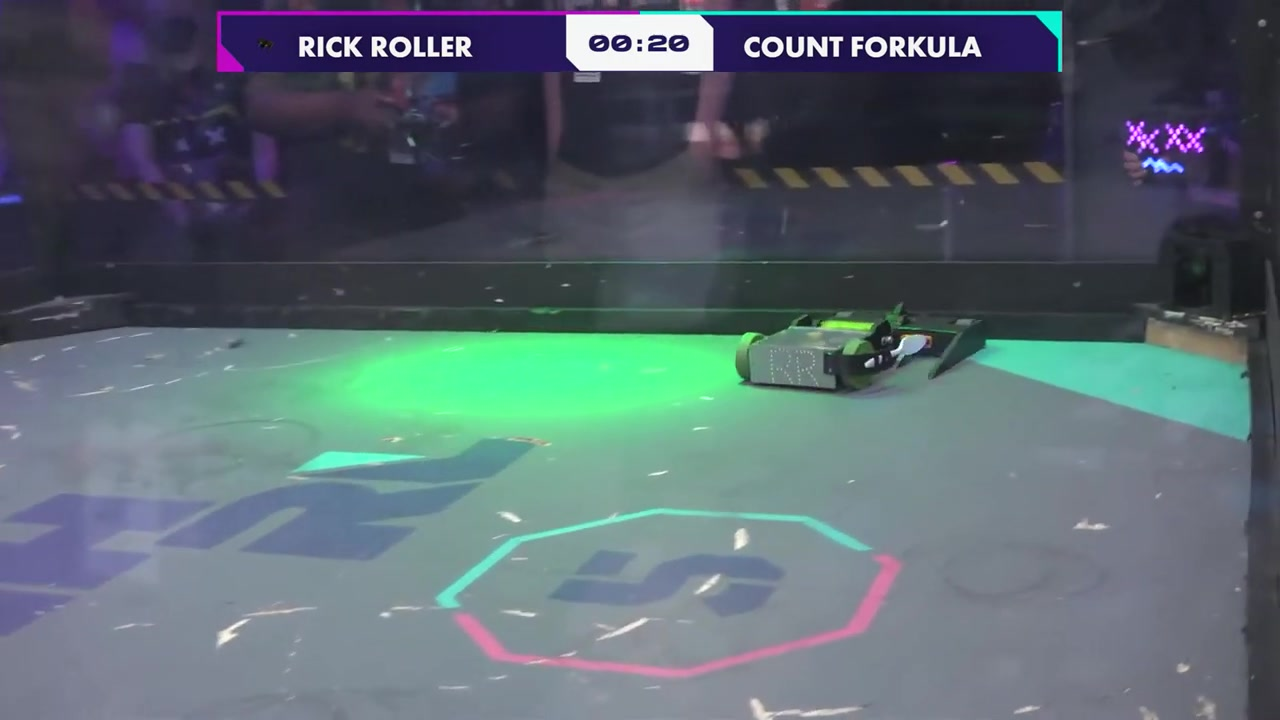combatbot: (735, 305, 928, 395), (863, 303, 988, 384)
